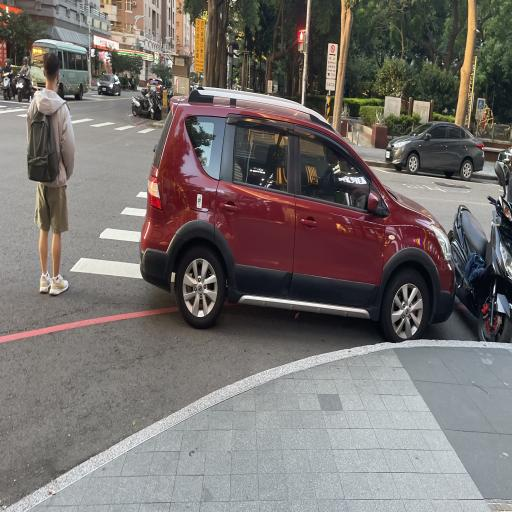MIU: (128, 222, 232, 338)
car: (140, 77, 457, 362), (382, 102, 484, 186)
redline: (0, 292, 236, 354)
